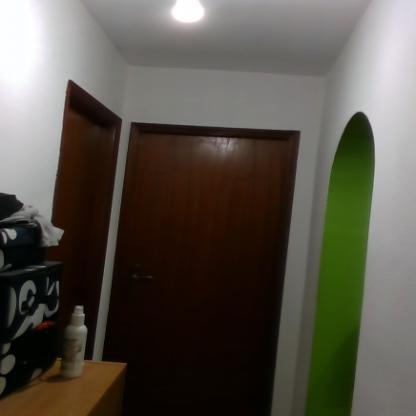door: (124, 125, 271, 415), (61, 112, 111, 362)
lever: (133, 274, 155, 284)
